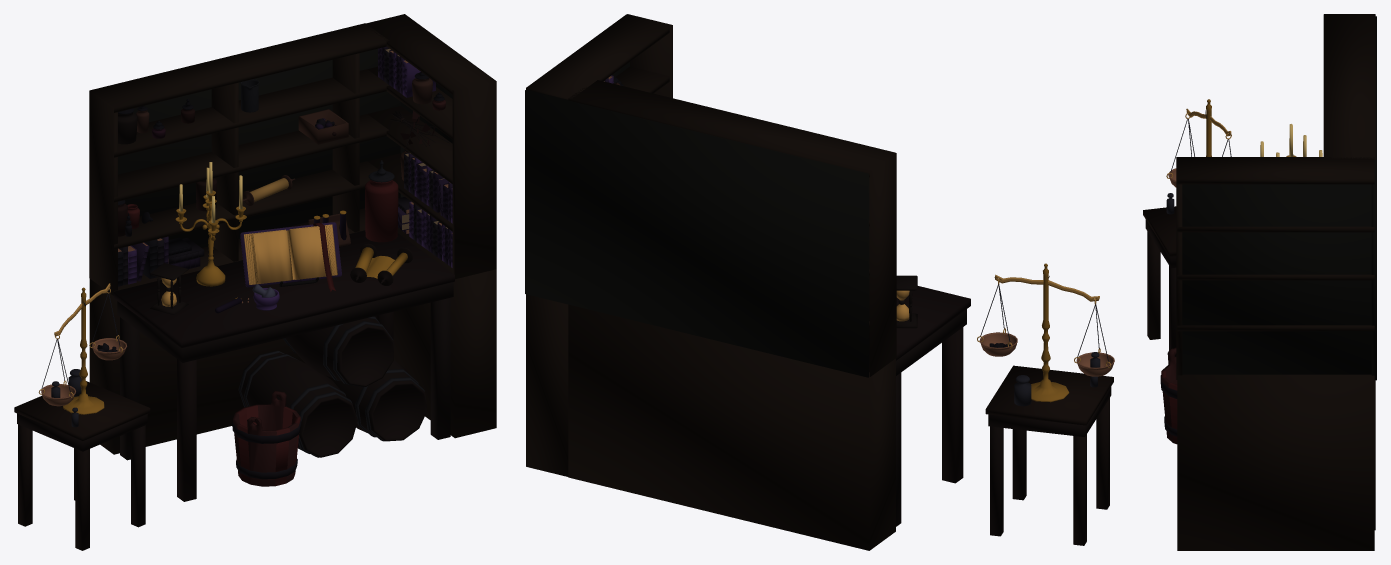
The model's file is lab.obj.
The picture shows the model from 3 angles, left to right: view 1: azimuth 30°, elevation 25°; view 2: azimuth 150°, elevation 25°; view 3: azimuth 270°, elevation 25°; orthographic projection. The views are drawn at different scales.
Visible parts, largest first — view 1: Box008, Box040, Box023, Box036, Box039, Box031, Cylinder039, Box025, Box030, Box026, Box007, Box024 (+31 smaller); view 2: Box040, Box023, Box031, Box036, Box026, Box032, Box022, Box005, Box008, Box017, Box018, Box021 (+7 smaller); view 3: Box036, Box041, Box031, Box032, Box040, Box035, Box019, Box033, Box034, Box039, Box022, Cylinder032 (+5 smaller).
Boxes of the visible parts, x1=… form: Box008: x1=113, y1=230, x2=454, y2=347; Box040: x1=118, y1=48, x2=400, y2=247; Box023: x1=89, y1=208, x2=365, y2=454; Box036: x1=393, y1=227, x2=496, y2=438; Box039: x1=452, y1=81, x2=496, y2=279; Box031: x1=90, y1=23, x2=389, y2=112; Cylinder039: x1=238, y1=352, x2=357, y2=457; Box025: x1=114, y1=114, x2=388, y2=202; Box030: x1=114, y1=69, x2=388, y2=157; Box026: x1=89, y1=90, x2=117, y2=295; Box007: x1=117, y1=282, x2=453, y2=362; Box024: x1=114, y1=161, x2=378, y2=249; Box040: x1=525, y1=89, x2=869, y2=377; Box023: x1=568, y1=304, x2=895, y2=550; Box031: x1=568, y1=80, x2=895, y2=177; Box036: x1=526, y1=294, x2=568, y2=476; Box026: x1=869, y1=153, x2=896, y2=376; Box032: x1=526, y1=14, x2=671, y2=99; Box022: x1=985, y1=365, x2=1113, y2=425; Box005: x1=942, y1=327, x2=963, y2=483; Box008: x1=896, y1=286, x2=970, y2=360; Box017: x1=1073, y1=434, x2=1086, y2=545; Box018: x1=990, y1=426, x2=1003, y2=536; Box021: x1=988, y1=386, x2=1111, y2=436; Box036: x1=1177, y1=374, x2=1374, y2=550; Box041: x1=1182, y1=184, x2=1371, y2=374; Box031: x1=1323, y1=14, x2=1375, y2=160; Box032: x1=1177, y1=157, x2=1374, y2=184; Box040: x1=1371, y1=16, x2=1376, y2=380; Box035: x1=1177, y1=325, x2=1374, y2=331; Box019: x1=1147, y1=231, x2=1160, y2=339; Box033: x1=1177, y1=226, x2=1374, y2=232; Box034: x1=1177, y1=274, x2=1374, y2=280; Box039: x1=1176, y1=157, x2=1182, y2=379; Box022: x1=1143, y1=206, x2=1176, y2=256; Cylinder032: x1=1161, y1=347, x2=1177, y2=442.
Size of the model in its own units: 518 by 389 by 217.
